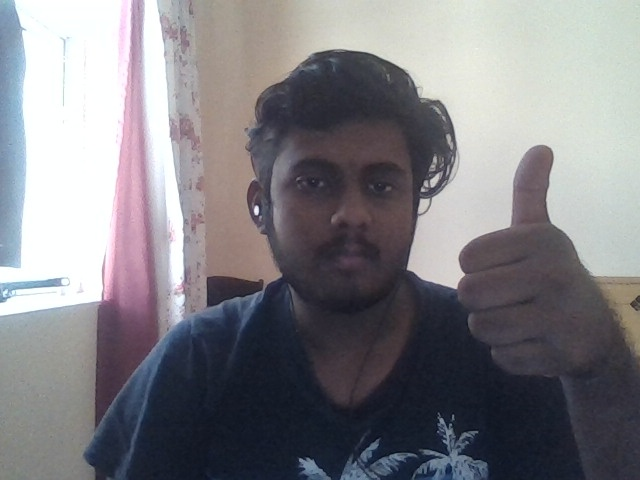thumbsup: (529, 130, 640, 401)
